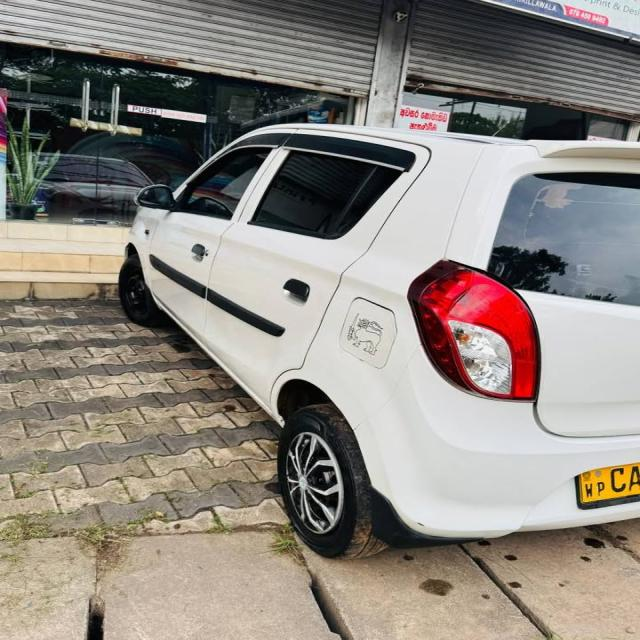Rust: (406, 76, 639, 121), (98, 49, 179, 66)
